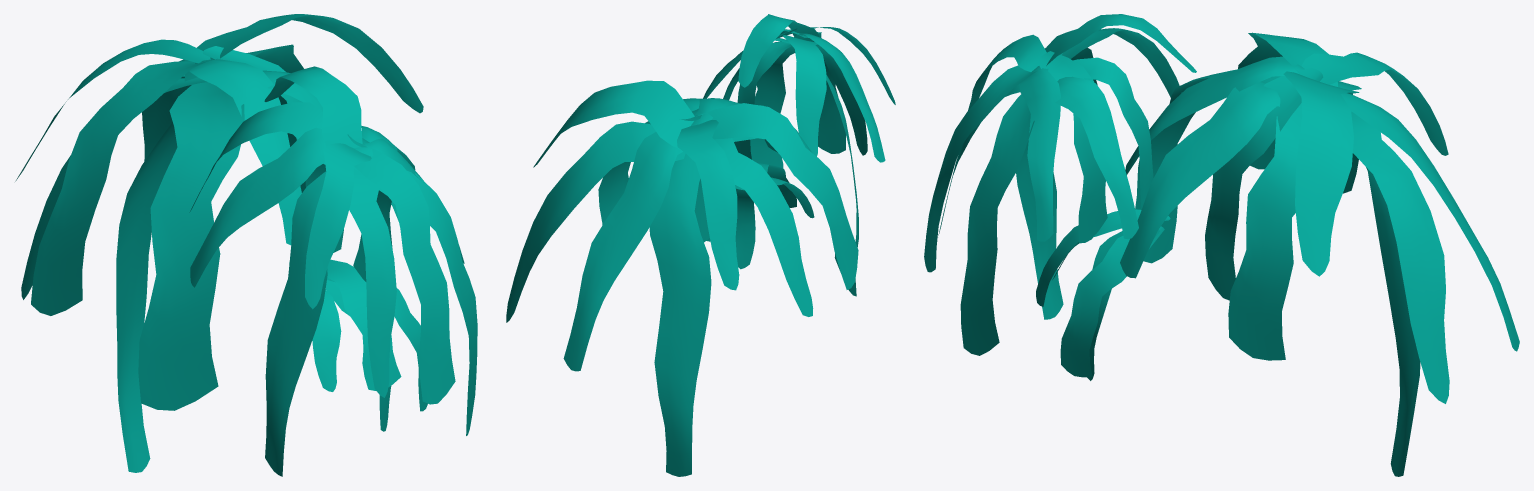
Rendered from SM_LeafSwirl.fbx.
3 renders of one model, left to right at view 1: azimuth 30°, elevation 25°; view 2: azimuth 150°, elevation 25°; view 3: azimuth 270°, elevation 25°, orthographic. The views are drawn at different scales.
Parts seen in each view (by area): view 1: Plane424; view 2: Plane424; view 3: Plane424.
Part boxes in pixels (left/top/right/bottom): Plane424: left=15, top=14, right=477, bottom=476; Plane424: left=506, top=14, right=895, bottom=476; Plane424: left=924, top=14, right=1519, bottom=476.
Bounding box in the file's own units: 523 × 618 × 713.
